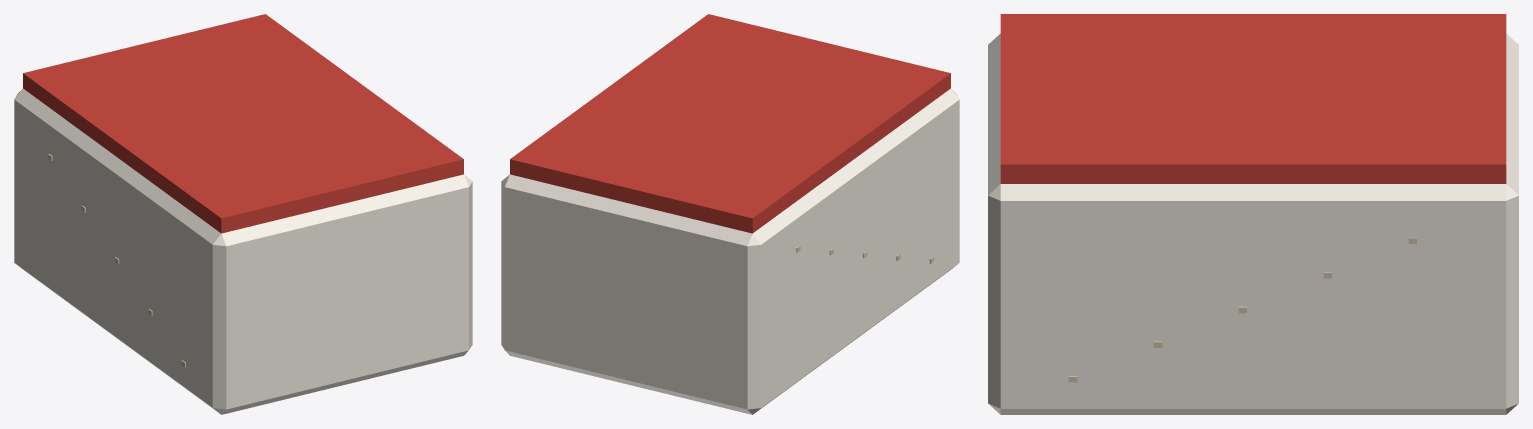
The model's file is deck_stack.glb.
3 renders of one model, left to right at view 1: azimuth 30°, elevation 25°; view 2: azimuth 150°, elevation 25°; view 3: azimuth 270°, elevation 25°, orthographic. The views are drawn at different scales.
Parts seen in each view (by area): view 1: deck_stack; view 2: deck_stack; view 3: deck_stack.
Boxes of the visible parts, bbox=[...] form: deck_stack: bbox=[14, 14, 472, 414]; deck_stack: bbox=[501, 14, 959, 414]; deck_stack: bbox=[988, 14, 1518, 414].
Bounding box in the file's own units: 0.0908 × 0.065 × 0.125.
